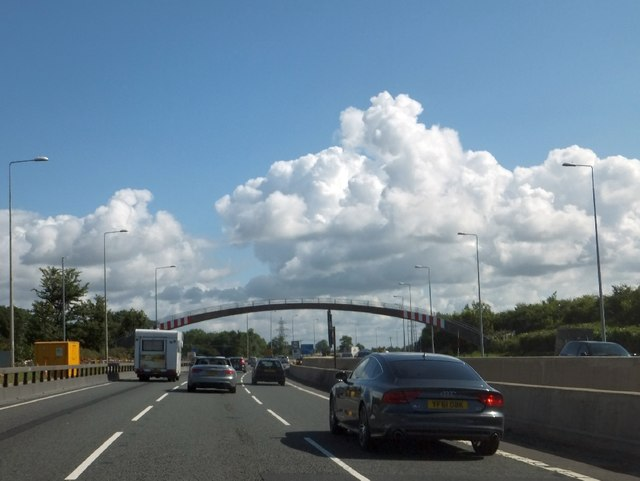bridge: (155, 293, 452, 334)
